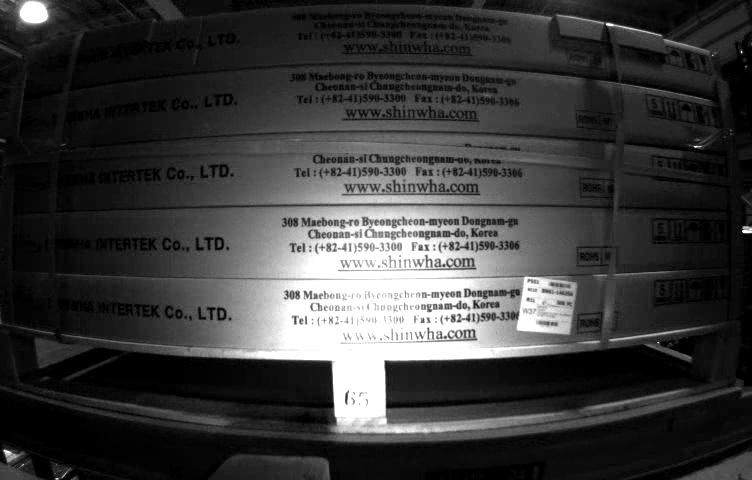True Barcode: (520, 272, 569, 334)
